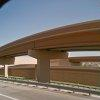Bridge: (0, 19, 98, 83)
